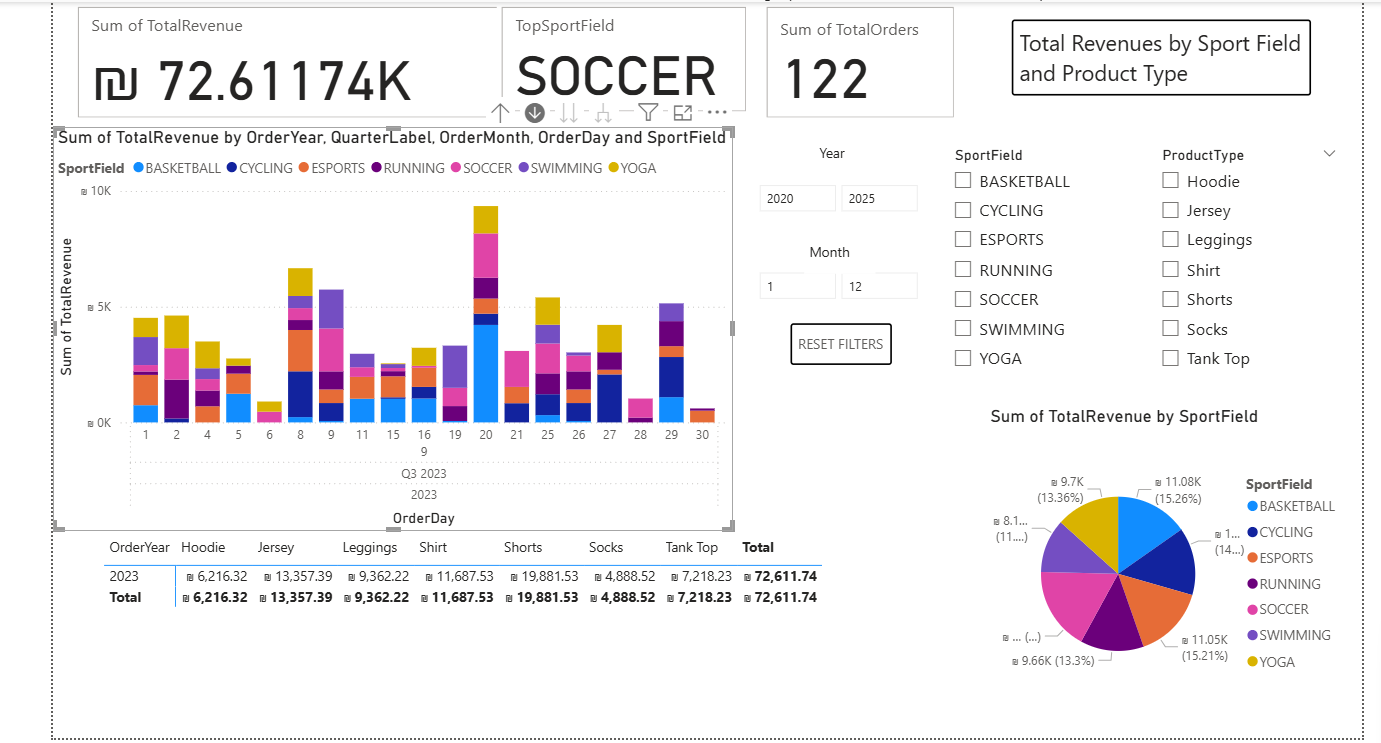

The dashboard page shown, as its layout file describes it:
{"tool":"powerbi","page":{"name":"Dashboard","canvas":[1280,720],"ordinal":1},"visuals":[{"type":"columnChart","fields":{"Y":["Sum(SportRevenue.TotalRevenue)"],"Series":["SportRevenue.SportField"],"Category":["SportRevenue.OrderYear","SportRevenue.QuarterLabel","SportRevenue.OrderMonth","SportRevenue.OrderDay"]},"box":[0,121.9,664.7,395.7],"z":0},{"type":"cardVisual","fields":{"Data":["Sum(SportRevenue.TotalRevenue)"]},"box":[19.3,0,424.7,118.2],"z":1000},{"type":"cardVisual","fields":{"Data":["SportRevenue.TopSportField"]},"box":[434.3,0,249.7,112.2],"z":2000},{"type":"cardVisual","fields":{"Data":["Sum(SportRevenue.TotalOrders)"]},"box":[693.7,0,193,118.2],"z":3000},{"type":"slicer","fields":{"Values":["SportRevenue.ProductType"]},"box":[1072.5,136.3,195.4,236.5],"z":4000},{"type":"slicer","fields":{"Values":["SportRevenue.SportField"]},"box":[869.8,136.3,193,258.2],"z":5000},{"type":"actionButton","box":[721,313.9,98.9,41],"z":6000},{"type":"textbox","box":[937.4,16.9,293.2,74.8],"z":7000},{"type":"pivotTable","fields":{"Rows":["SportRevenue.OrderYear"],"Columns":["SportRevenue.ProductType"],"Values":["Sum(SportRevenue.TotalRevenue)"]},"box":[44.6,517.6,825.2,202.7],"z":8000},{"type":"pieChart","fields":{"Category":["SportRevenue.SportField"],"Y":["Sum(SportRevenue.TotalRevenue)"]},"box":[912.1,394.5,355.9,310.1],"z":9000},{"type":"slicer","fields":{"Values":["SportRevenue.OrderYear"]},"box":[679.2,168.9,181,42.2],"z":11000},{"type":"slicer","fields":{"Values":["SportRevenue.OrderMonth"]},"box":[679.2,254.6,177.3,39.8],"z":11001},{"type":"textbox","box":[745.1,132.9,53.1,36.2],"z":11002},{"type":"textbox","box":[735.4,229.5,70,36.2],"z":11003}]}

Visuals, with their boxes on the page's 1280x720 design canvas (x1, y1, x2, y2). These are canvas units, not pixel positions in the 1381x743 screenshot, which may show the page scaled, cropped or inside an application window:
columnChart - Sum(SportRevenue.TotalRevenue) x SportRevenue.SportField: bbox=[0, 122, 665, 518]
cardVisual - Sum(SportRevenue.TotalRevenue): bbox=[19, 0, 444, 118]
cardVisual - SportRevenue.TopSportField: bbox=[434, 0, 684, 112]
cardVisual - Sum(SportRevenue.TotalOrders): bbox=[694, 0, 887, 118]
slicer - SportRevenue.ProductType: bbox=[1072, 136, 1268, 373]
slicer - SportRevenue.SportField: bbox=[870, 136, 1063, 394]
actionButton: bbox=[721, 314, 820, 355]
textbox: bbox=[937, 17, 1231, 92]
pivotTable - SportRevenue.OrderYear x SportRevenue.ProductType: bbox=[45, 518, 870, 720]
pieChart - SportRevenue.SportField x Sum(SportRevenue.TotalRevenue): bbox=[912, 394, 1268, 705]
slicer - SportRevenue.OrderYear: bbox=[679, 169, 860, 211]
slicer - SportRevenue.OrderMonth: bbox=[679, 255, 856, 294]
textbox: bbox=[745, 133, 798, 169]
textbox: bbox=[735, 230, 805, 266]
